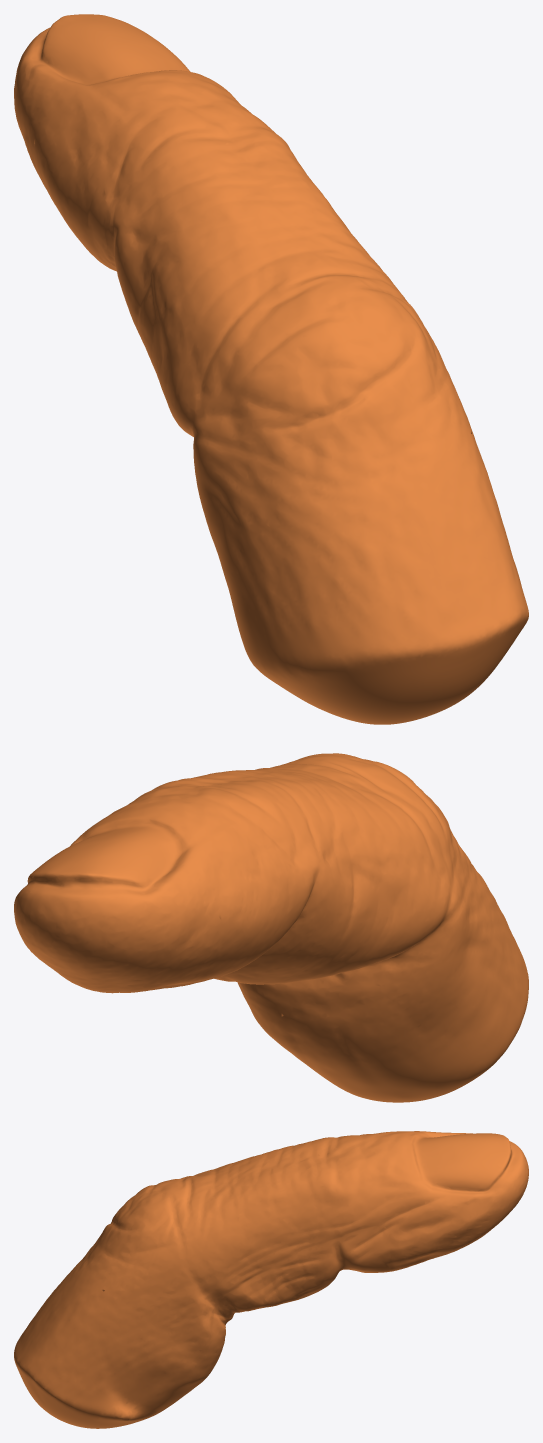
Rendered from asset.glb.
The picture shows the model from 3 angles, top to bottom: view 1: azimuth 30°, elevation 25°; view 2: azimuth 150°, elevation 25°; view 3: azimuth 270°, elevation 25°; orthographic projection. The views are drawn at different scales.
Visible parts, largest first — view 1: Group53728; view 2: Group53728; view 3: Group53728.
Part boxes in pixels (<box>): Group53728: <box>14,14,528,724</box>; Group53728: <box>14,753,528,1102</box>; Group53728: <box>14,1131,528,1428</box>.
Bounding box in the file's own units: 22.99 × 43.41 × 70.43.
